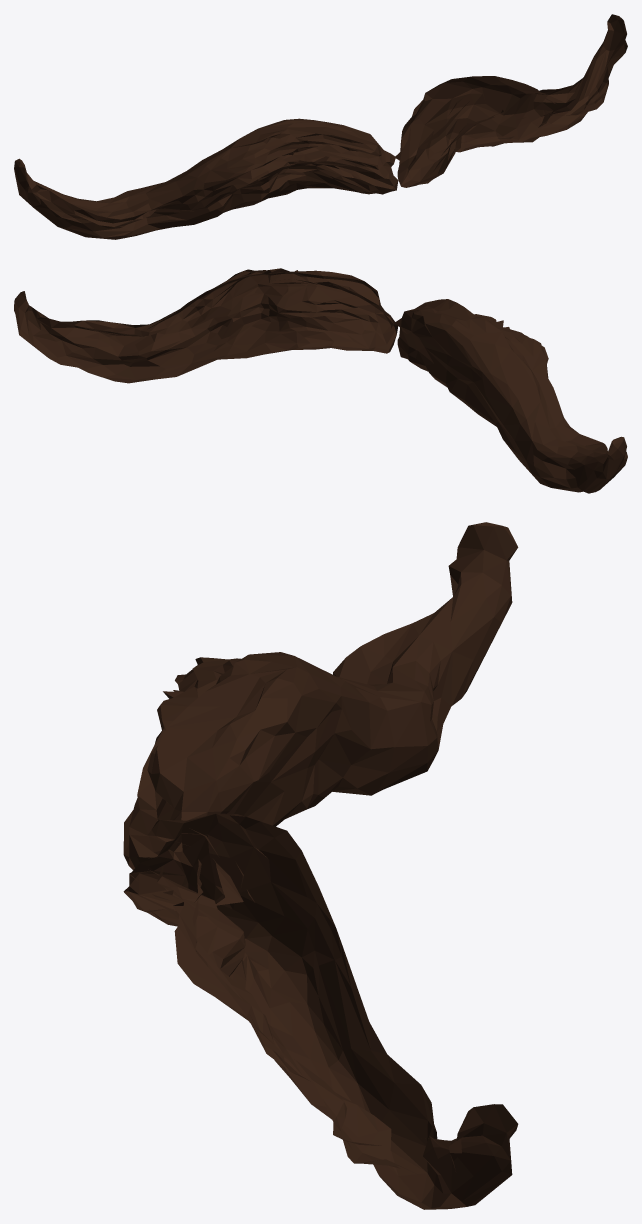
Rendered from Beard.glb.
3 views of the same model, one above another, from view 1: azimuth 30°, elevation 25°; view 2: azimuth 150°, elevation 25°; view 3: azimuth 270°, elevation 25° (orthographic). The views are drawn at different scales.
Parts seen in each view (by area): view 1: Beard; view 2: Beard; view 3: Beard.
Boxes of the visible parts, x1=… form: Beard: x1=14, y1=14, x2=627, y2=239; Beard: x1=14, y1=268, x2=627, y2=493; Beard: x1=123, y1=522, x2=518, y2=1209.
Size of the model in its own units: 16.25 by 2.77 by 4.58.
